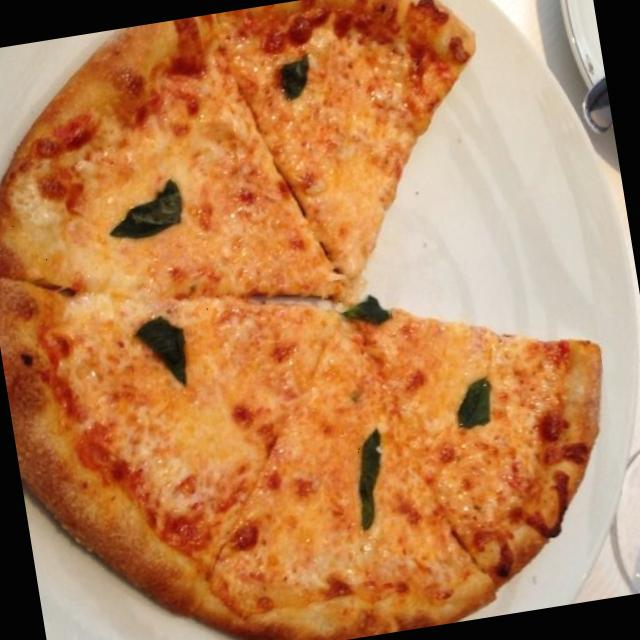basil: (98, 175, 198, 256), (122, 306, 198, 400), (342, 422, 400, 540), (449, 372, 508, 448), (272, 48, 320, 110), (335, 290, 392, 336)
pizza: (0, 281, 601, 640), (0, 14, 345, 298), (216, 0, 473, 276)
